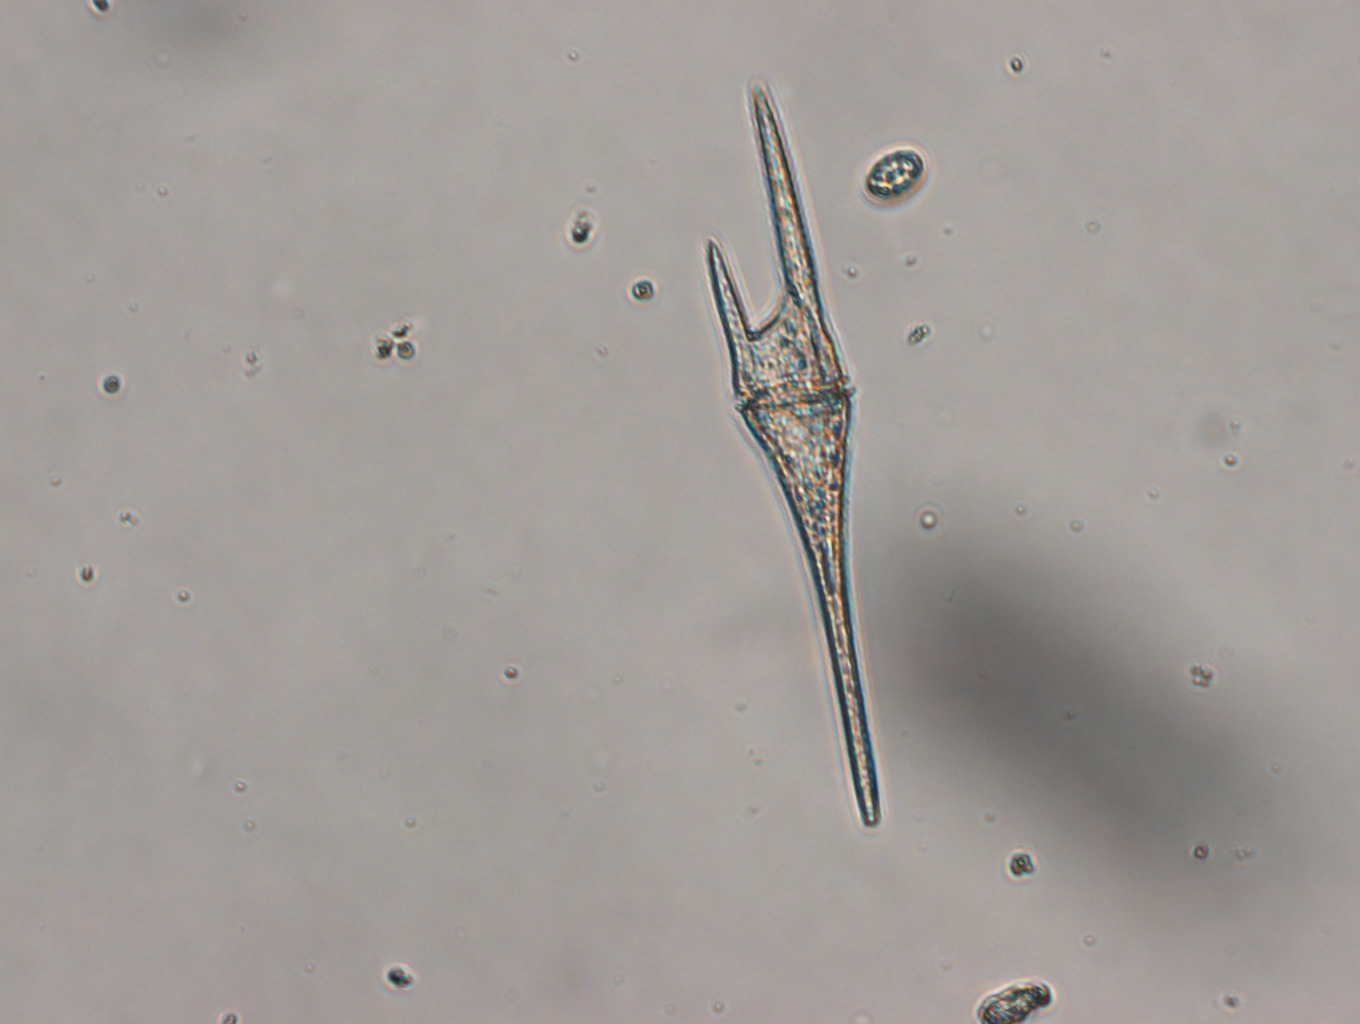ceratium furca: (697, 73, 885, 834)
